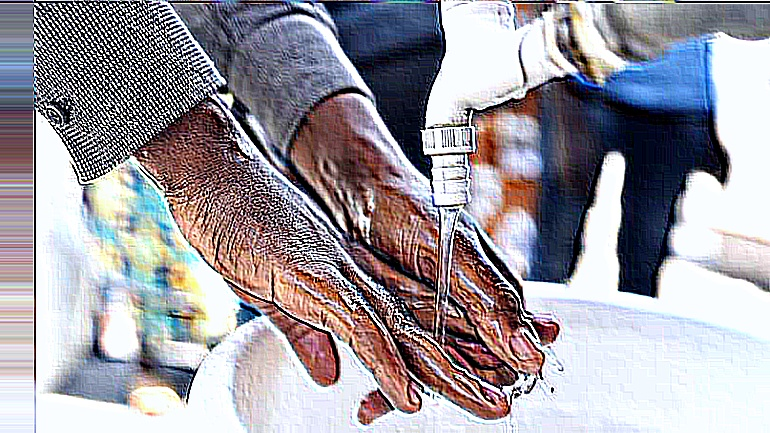washing hand: (140, 18, 599, 430)
